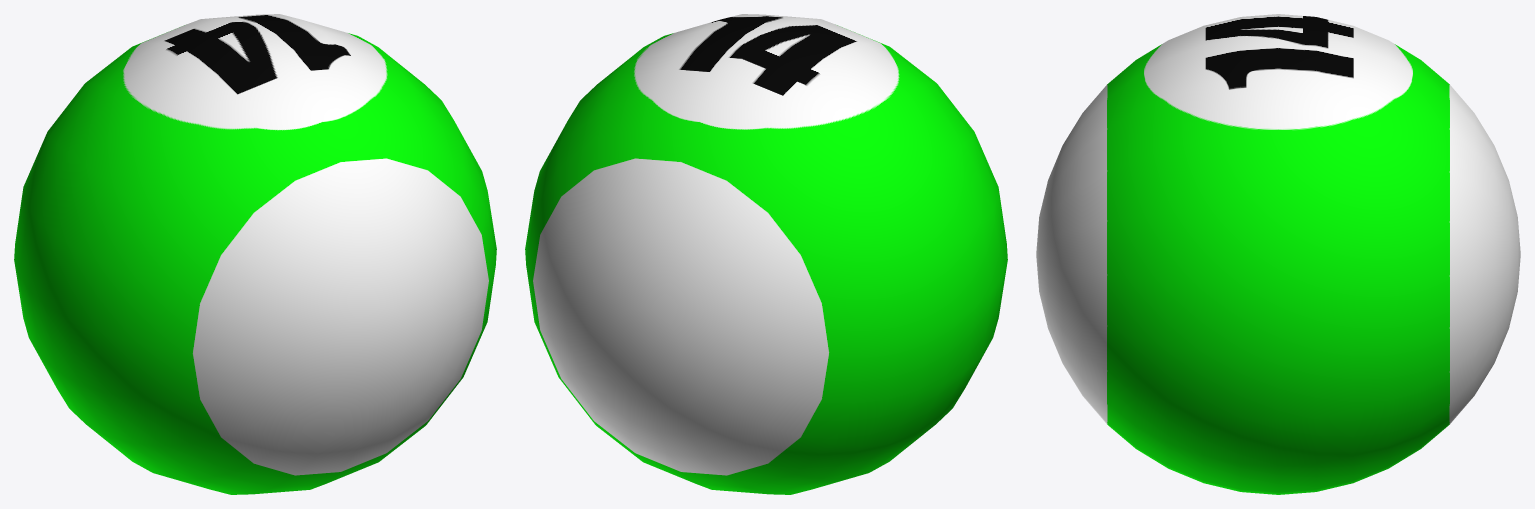
The model's file is ball14.fbx.
3 renders of one model, left to right at view 1: azimuth 30°, elevation 25°; view 2: azimuth 150°, elevation 25°; view 3: azimuth 270°, elevation 25°, orthographic.
Parts seen in each view (by area): view 1: pSphere1; view 2: pSphere1; view 3: pSphere1.
Part boxes in pixels (bbox=[...]): pSphere1: bbox=[14, 14, 496, 494]; pSphere1: bbox=[525, 14, 1007, 494]; pSphere1: bbox=[1036, 14, 1520, 494].
Bounding box in the file's own units: 2 × 2 × 2.
